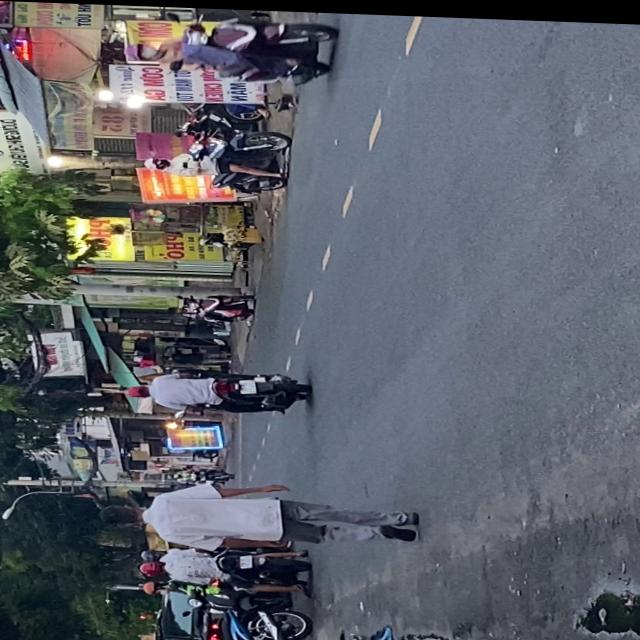helmet: (124, 40, 160, 59), (138, 558, 164, 574), (142, 154, 170, 168), (138, 547, 162, 560)
licenseplate: (122, 9, 340, 85), (143, 125, 291, 191), (122, 363, 308, 414), (135, 542, 311, 590)
motorcyclist: (128, 382, 153, 397)
nohelmet: (240, 376, 256, 391), (238, 552, 252, 565)
